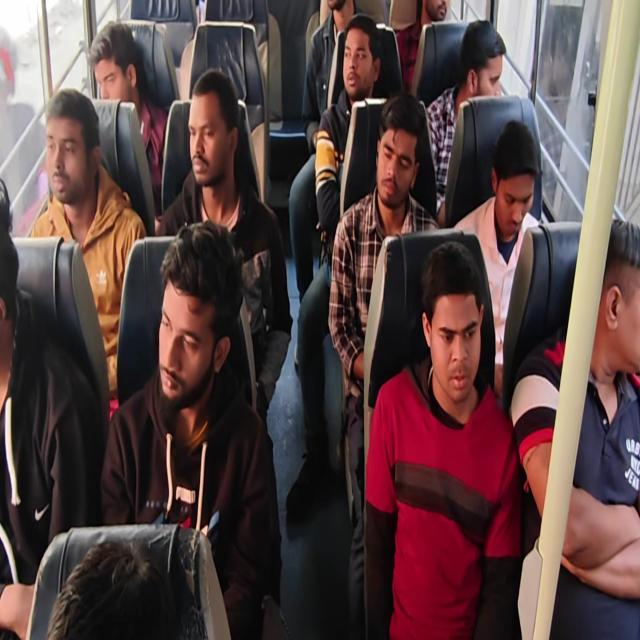person: (150, 218, 241, 413), (49, 528, 204, 640), (423, 238, 499, 454), (373, 95, 428, 218), (186, 82, 241, 202), (44, 88, 100, 198), (0, 177, 34, 351), (493, 117, 539, 241), (606, 224, 640, 382), (89, 22, 144, 104), (338, 15, 382, 107), (461, 26, 507, 96), (420, 0, 453, 27), (323, 0, 356, 23)
